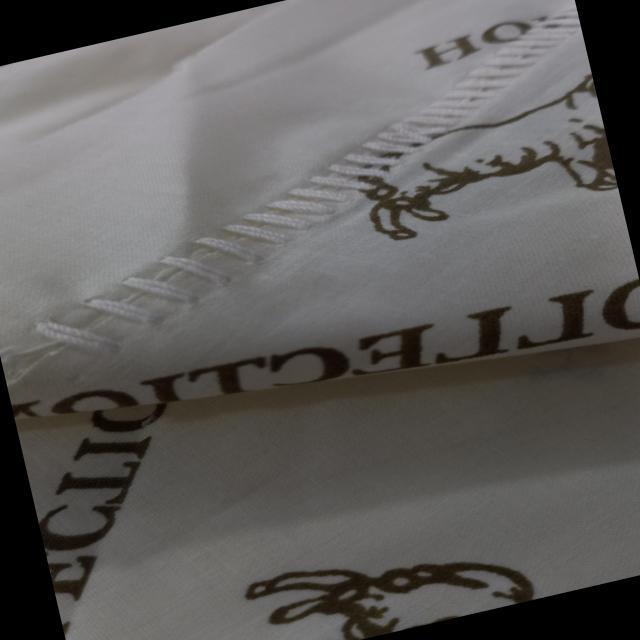gray stitch: (0, 19, 613, 357)
